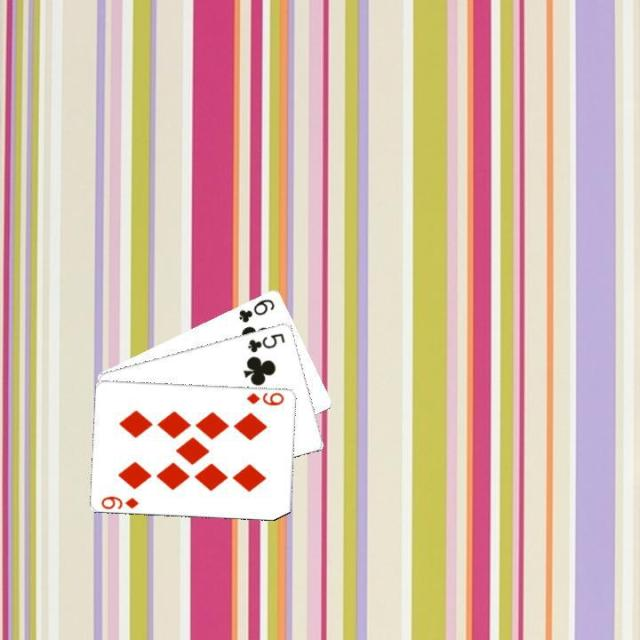5C: (244, 329, 287, 354)
6C: (234, 294, 276, 324)
9D: (243, 389, 286, 407), (98, 492, 140, 510)
